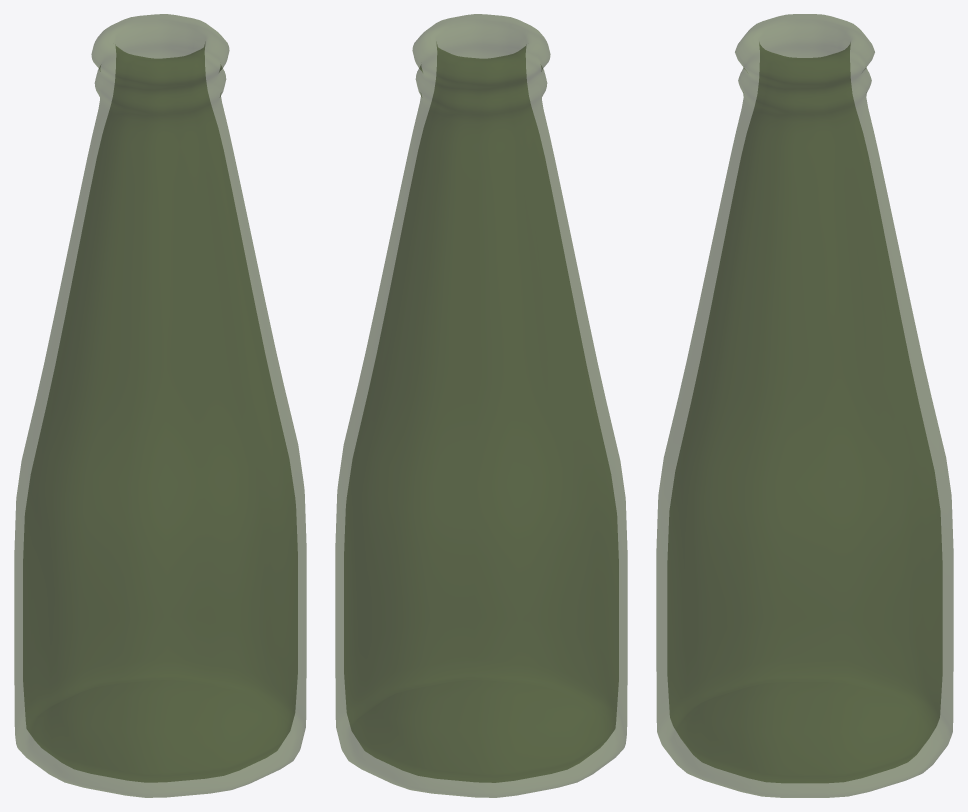
Rendered from bottle.fbx.
The picture shows the model from 3 angles, left to right: view 1: azimuth 30°, elevation 25°; view 2: azimuth 150°, elevation 25°; view 3: azimuth 270°, elevation 25°; orthographic projection.
Visible parts, largest first — view 1: Cylinder; view 2: Cylinder; view 3: Cylinder.
Boxes of the visible parts, x1,y1,x2,y2 form: Cylinder: (14,14,306,797); Cylinder: (335,14,627,797); Cylinder: (656,14,953,797).
Size of the model in its own units: 1.9 by 5.1 by 1.95.
